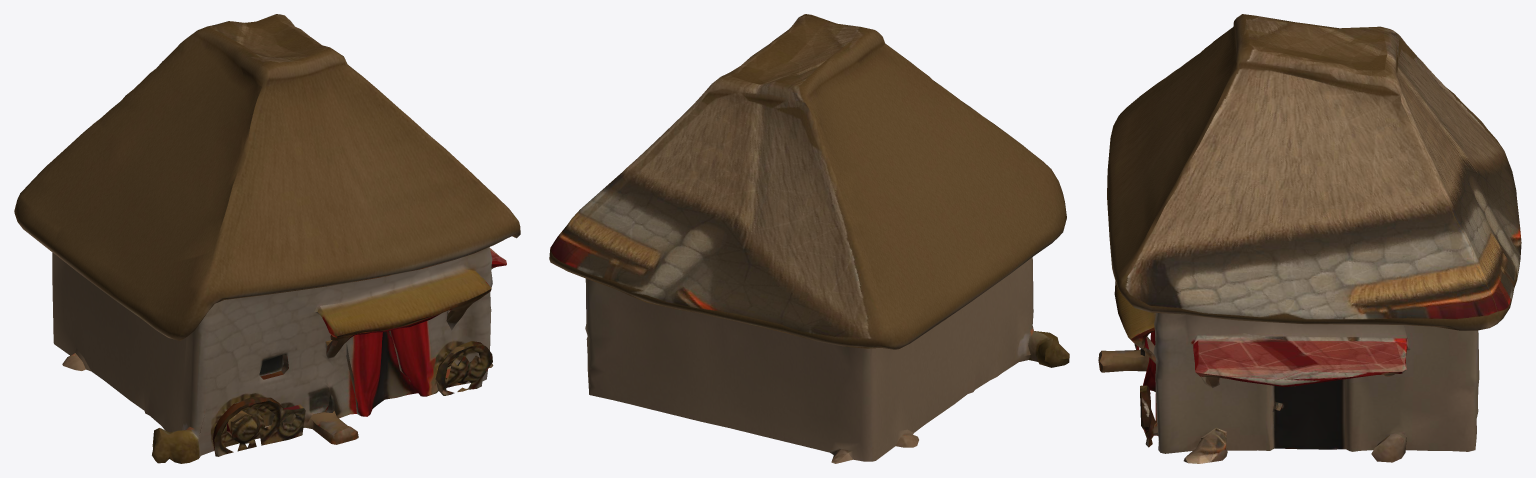
File: etiopia_taller.glb
The picture shows the model from 3 angles, left to right: view 1: azimuth 30°, elevation 25°; view 2: azimuth 150°, elevation 25°; view 3: azimuth 270°, elevation 25°; orthographic projection. The views are drawn at different scales.
Visible parts, largest first — view 1: geometry_0; view 2: geometry_0; view 3: geometry_0.
Part boxes in pixels (box(x1,y1,x2,y2)): geometry_0: box(14, 14, 520, 463); geometry_0: box(549, 14, 1069, 463); geometry_0: box(1098, 14, 1521, 463).
Size of the model in its own units: 2.4 by 1.98 by 2.18.
1 material, 1 textured.
